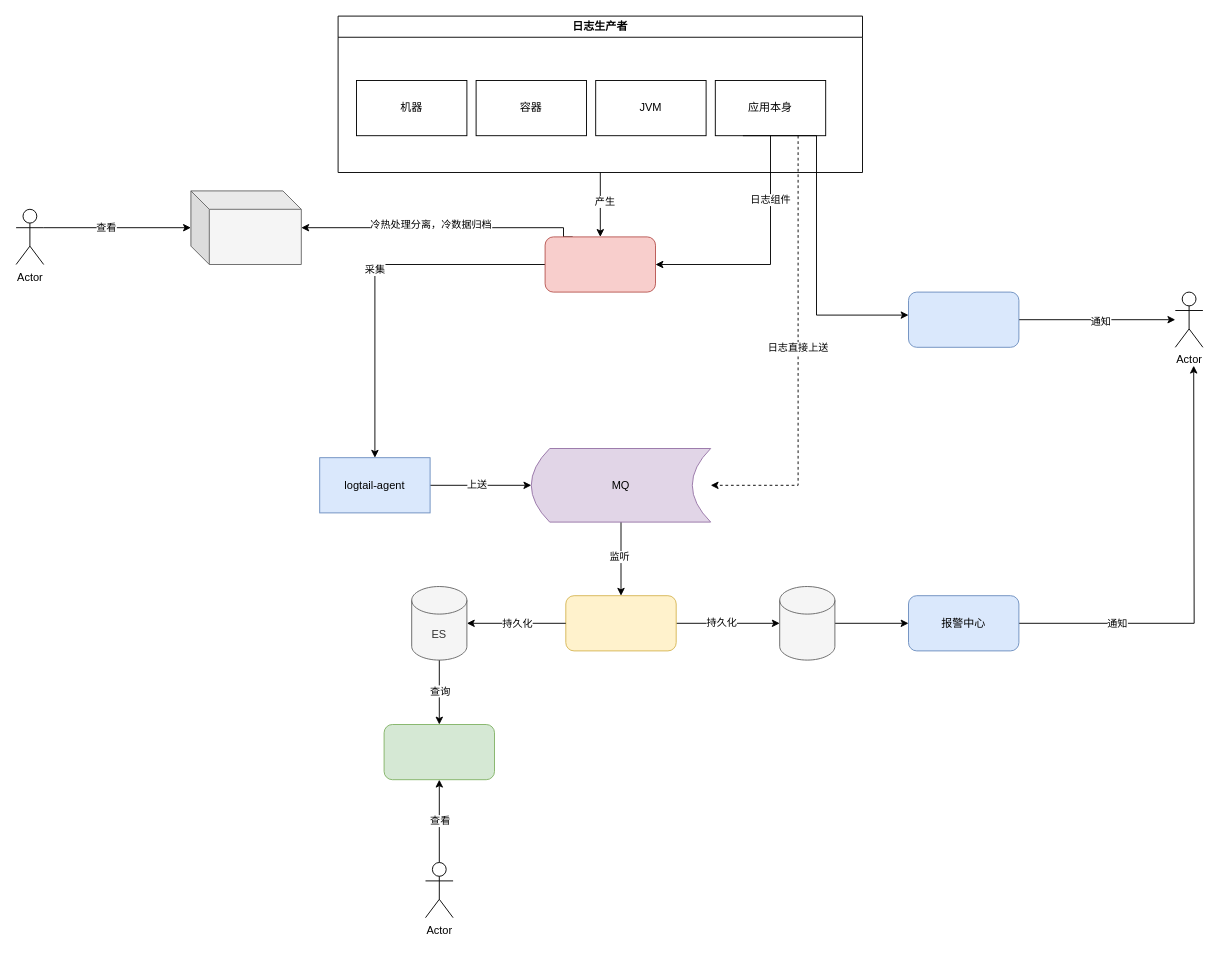
Some shapes in this 1219 by 953 pixel diagram are drawn without their labels. Each missing label, with the box of its shape:
CAT 等监控平台: (908, 291, 1019, 347)
Kinana 等可视化平台: (383, 724, 494, 780)
VM: (779, 586, 835, 660)
归档: (190, 190, 301, 264)
日志: (544, 236, 656, 292)
日志处理 （ETL）: (565, 595, 676, 651)
